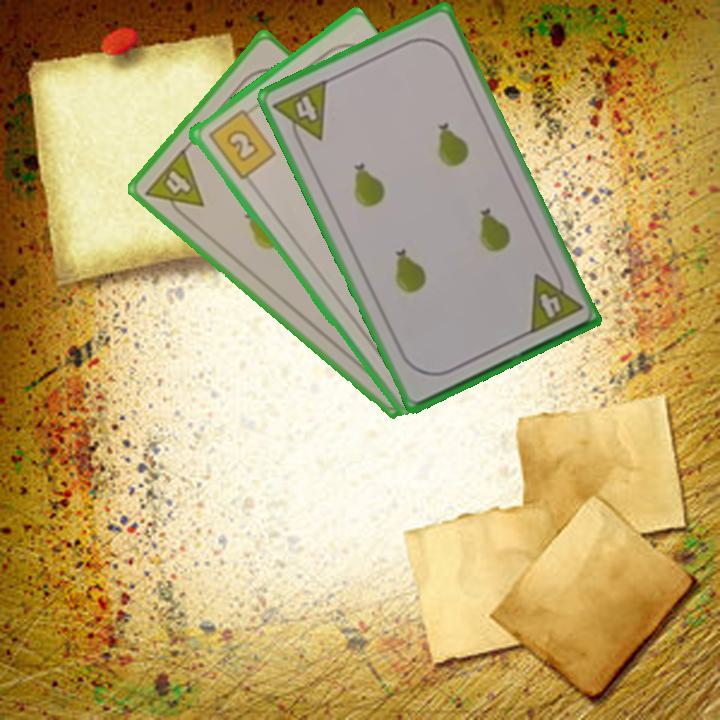2b: (204, 104, 278, 182)
4p: (141, 145, 207, 225), (269, 75, 330, 152), (524, 263, 585, 337)
